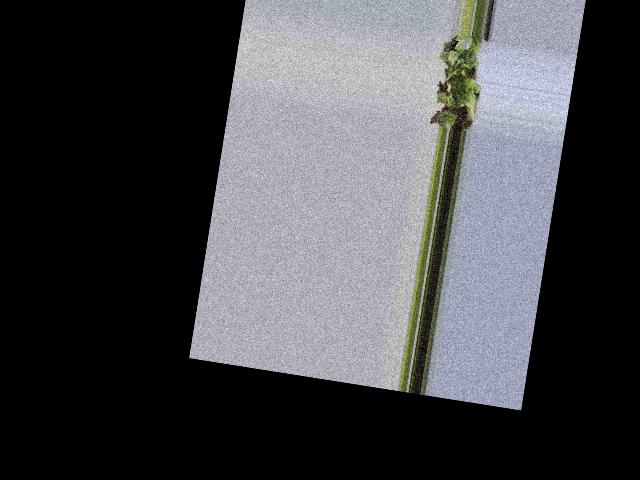lettuce: (433, 37, 481, 128)
